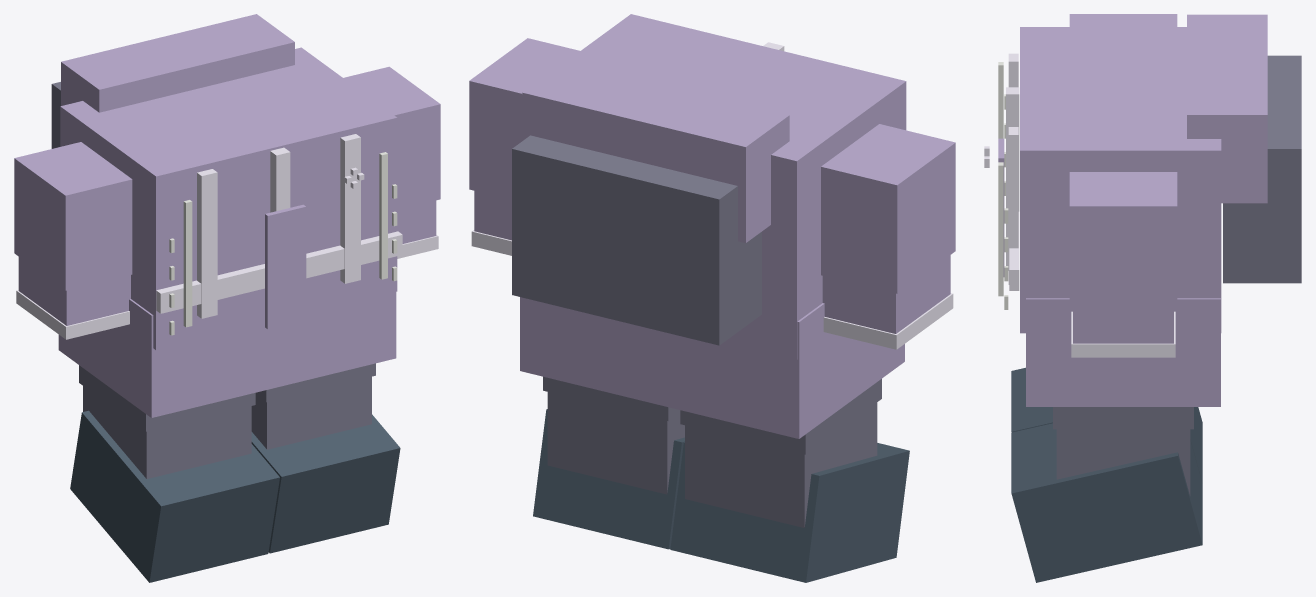
The model's file is raincoat-lavender.glb.
3 views of the same model, side by side, from view 1: azimuth 30°, elevation 25°; view 2: azimuth 150°, elevation 25°; view 3: azimuth 270°, elevation 25° (orthographic). The views are drawn at different scales.
Parts seen in each view (by area): view 1: jacket, coat-tails, shoe-Right, upper-sleeve-Right, rain-hood, shoe-Left, lower-trouser-Right, upper-sleeve-Left, lower-trouser-Left, design-raincoat-storm-flap, lower-sleeve-Right, reflective-band (+11 smaller); view 2: backpack, jacket, coat-tails, rain-hood, upper-sleeve-Right, shoe-Right, lower-trouser-Right, lower-trouser-Left, shoe-Left, upper-sleeve-Left, lower-sleeve-Right, trouser-Right (+4 smaller); view 3: jacket, shoe-Left, coat-tails, upper-sleeve-Left, rain-hood, backpack, lower-trouser-Left, lower-sleeve-Left, trouser-Left, shoe-Right, cuff-Left, upper-sleeve-Right (+5 smaller).
Part boxes in pixels (x1,y1,x2,y2): jacket: [60, 47, 397, 350]; coat-tails: [58, 292, 396, 417]; shoe-Right: [70, 410, 279, 582]; upper-sleeve-Right: [14, 142, 132, 290]; rain-hood: [61, 14, 294, 112]; shoe-Left: [251, 414, 400, 553]; lower-trouser-Right: [83, 386, 251, 478]; upper-sleeve-Left: [343, 66, 440, 209]; lower-trouser-Left: [251, 376, 371, 449]; design-raincoat-storm-flap: [265, 204, 306, 329]; lower-sleeve-Right: [18, 257, 130, 325]; reflective-band: [156, 231, 402, 313]; backpack: [512, 135, 761, 345]; jacket: [521, 14, 906, 359]; coat-tails: [520, 297, 904, 438]; rain-hood: [522, 60, 789, 242]; upper-sleeve-Right: [821, 124, 955, 293]; shoe-Right: [670, 442, 909, 582]; lower-trouser-Right: [685, 402, 877, 527]; lower-trouser-Left: [547, 392, 684, 494]; shoe-Left: [533, 409, 684, 549]; upper-sleeve-Left: [469, 38, 579, 199]; lower-sleeve-Right: [822, 255, 950, 333]; trouser-Right: [680, 379, 881, 454]; jacket: [1020, 27, 1221, 333]; shoe-Left: [1011, 423, 1202, 582]; coat-tails: [1026, 298, 1220, 406]; upper-sleeve-Left: [1069, 172, 1177, 305]; rain-hood: [1187, 14, 1267, 203]; backpack: [1223, 55, 1301, 283]; lower-trouser-Left: [1056, 429, 1190, 495]; lower-sleeve-Left: [1073, 306, 1173, 343]; trouser-Left: [1053, 407, 1193, 429]; shoe-Right: [1011, 367, 1202, 483]; cuff-Left: [1071, 311, 1175, 357]; upper-sleeve-Right: [1069, 14, 1177, 26].
Bounding box in the file's own units: 1.07 × 1.19 × 0.748.
